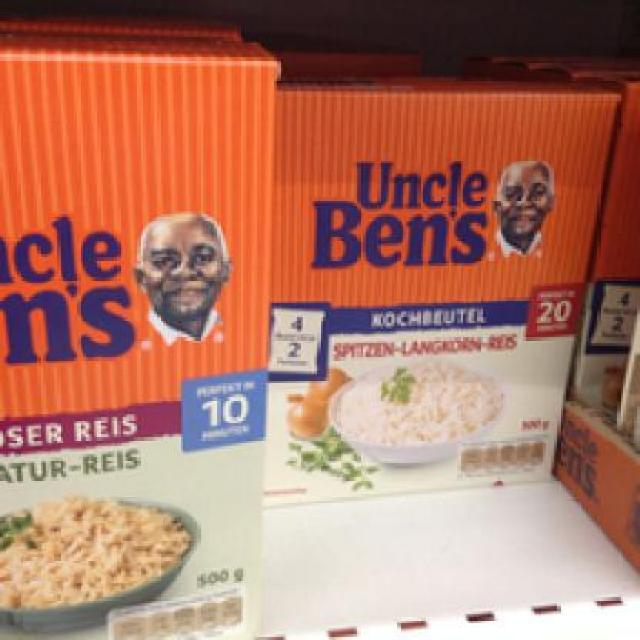Rice: (0, 30, 275, 638), (272, 70, 618, 503)
